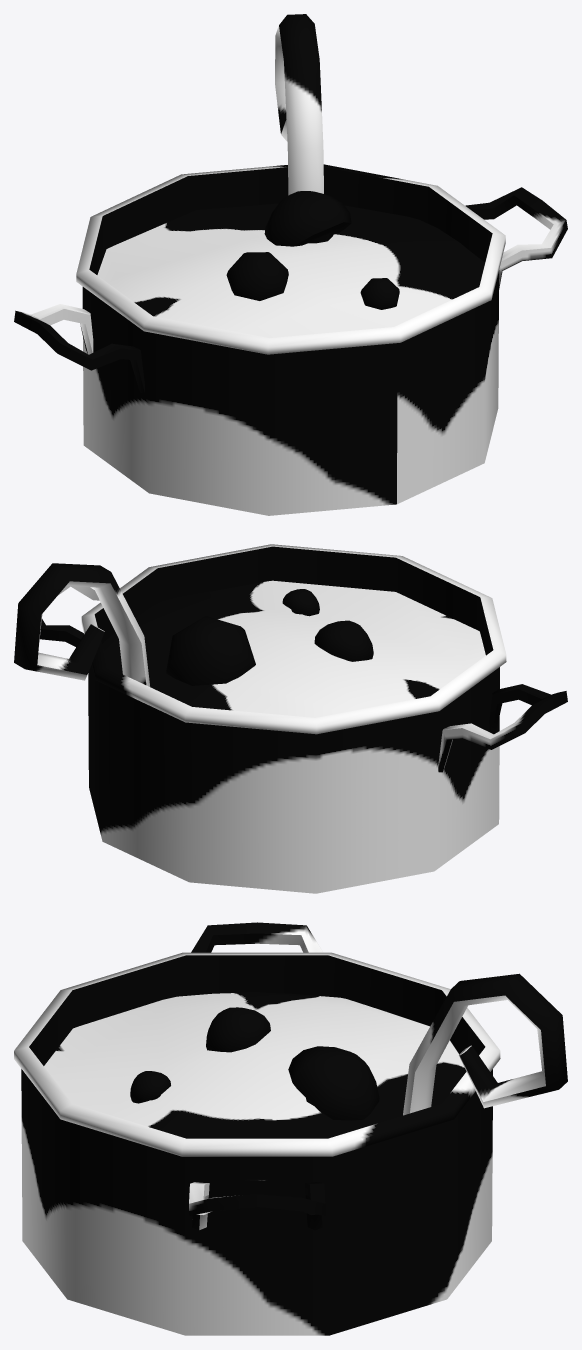
File: DeepPanStew.fbx
3 views of the same model, one above another, from view 1: azimuth 30°, elevation 25°; view 2: azimuth 150°, elevation 25°; view 3: azimuth 270°, elevation 25° (orthographic). The views are drawn at different scales.
Visible parts, largest first — view 1: DeepPanStew; view 2: DeepPanStew; view 3: DeepPanStew.
Boxes of the visible parts, left/top/right/bottom form: DeepPanStew: left=14, top=14, right=567, bottom=515; DeepPanStew: left=14, top=544, right=567, bottom=893; DeepPanStew: left=14, top=922, right=567, bottom=1335.
Size of the model in its own units: 127 by 70.81 by 108.
